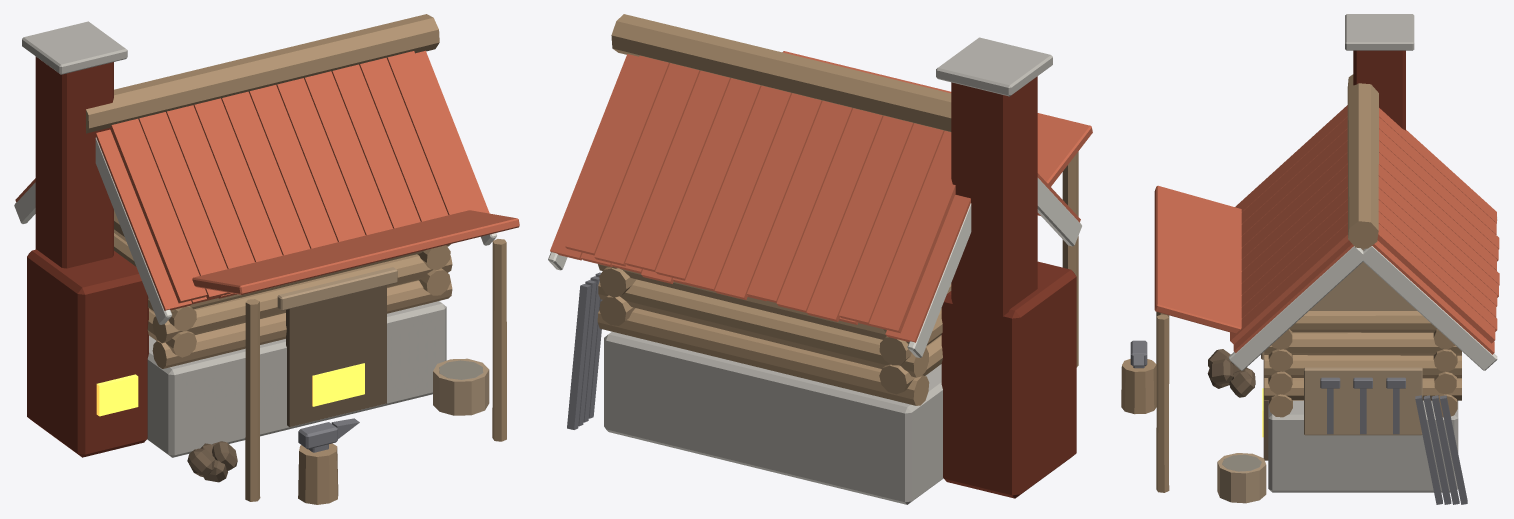
Rendered from bld_kuznica_e1.glb.
3 views of the same model, side by side, from view 1: azimuth 30°, elevation 25°; view 2: azimuth 150°, elevation 25°; view 3: azimuth 270°, elevation 25° (orthographic). The views are drawn at different scales.
Parts seen in each view (by area): view 1: kuznica; view 2: kuznica; view 3: kuznica.
Part boxes in pixels (x1,y1,x2,y2): kuznica: [14, 14, 519, 504]; kuznica: [548, 14, 1092, 504]; kuznica: [1121, 14, 1499, 504].
Size of the model in its own units: 1.18 by 1.13 by 1.15.
